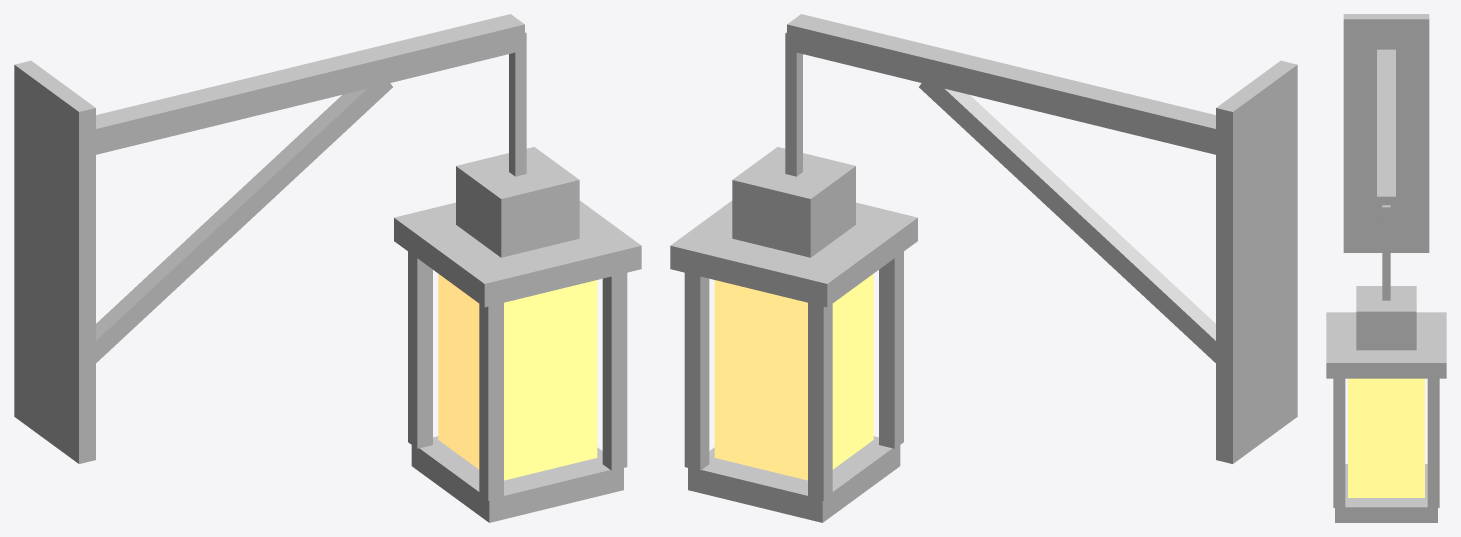
File: prop.door_lamp.glb
The picture shows the model from 3 angles, left to right: view 1: azimuth 30°, elevation 25°; view 2: azimuth 150°, elevation 25°; view 3: azimuth 270°, elevation 25°; orthographic projection. The views are drawn at different scales.
Visible parts, largest first — view 1: prop.door_lamp; view 2: prop.door_lamp; view 3: prop.door_lamp.
Part boxes in pixels (x1,y1,x2,y2): prop.door_lamp: (14, 14, 641, 522); prop.door_lamp: (670, 14, 1297, 522); prop.door_lamp: (1326, 14, 1446, 522).
Bounding box in the file's own units: 0.49 × 0.43 × 0.14.
